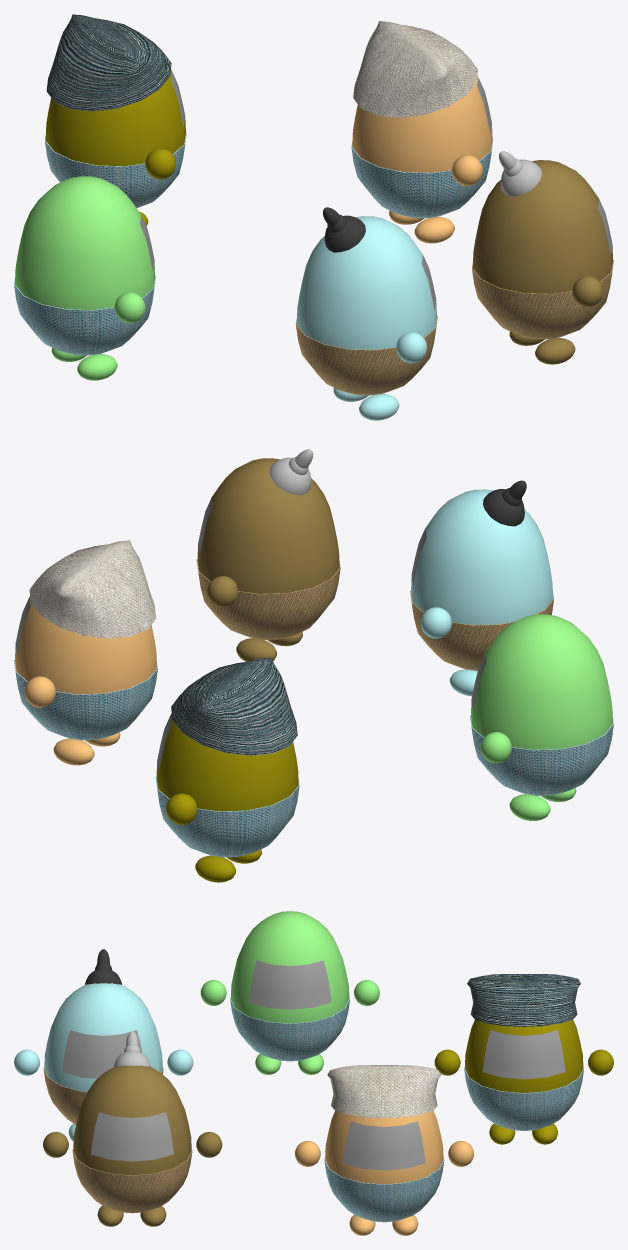
The model's file is npc.fbx.
The picture shows the model from 3 angles, top to bottom: view 1: azimuth 30°, elevation 25°; view 2: azimuth 150°, elevation 25°; view 3: azimuth 270°, elevation 25°; orthographic projection. The views are drawn at different scales.
Visible parts, largest first — view 1: polySurface10, polySurface16, polySurface34, polySurface33, polySurface4; view 2: polySurface10, polySurface4, polySurface34, polySurface33, polySurface16; view 3: polySurface10, polySurface4, polySurface34, polySurface33, polySurface16.
Boxes of the visible parts, x1=… form: polySurface10: x1=351, y1=21, x2=493, y2=243; polySurface16: x1=296, y1=207, x2=437, y2=420; polySurface34: x1=472, y1=151, x2=613, y2=364; polySurface33: x1=14, y1=176, x2=155, y2=380; polySurface4: x1=44, y1=14, x2=186, y2=225; polySurface10: x1=14, y1=540, x2=157, y2=765; polySurface4: x1=155, y1=657, x2=299, y2=882; polySurface34: x1=196, y1=449, x2=340, y2=661; polySurface33: x1=470, y1=614, x2=613, y2=820; polySurface16: x1=410, y1=480, x2=553, y2=696; polySurface10: x1=295, y1=1065, x2=474, y2=1235; polySurface4: x1=434, y1=974, x2=613, y2=1144; polySurface34: x1=43, y1=1031, x2=222, y2=1226; polySurface33: x1=200, y1=911, x2=379, y2=1074; polySurface16: x1=14, y1=949, x2=193, y2=1141.
Bounding box in the file's own units: 20.38 × 8.07 × 24.42.
19 materials, 7 textured.
